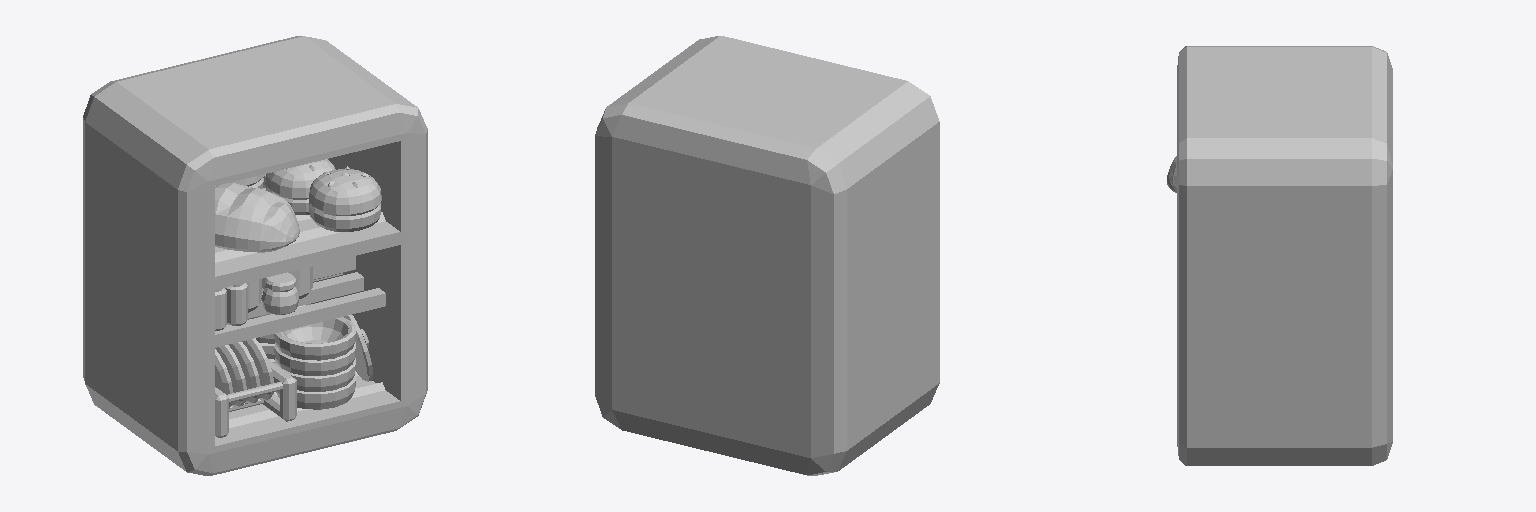
Rendered from pantry.obj.
3 renders of one model, left to right at view 1: azimuth 30°, elevation 25°; view 2: azimuth 150°, elevation 25°; view 3: azimuth 270°, elevation 25°, orthographic.
Visible parts, largest first — view 1: fridge_A_Cube.001, dishrack_plates_Cylinder.002, Sphere.002, food_ingredient_bun_Cube.001, bowl_Sphere.004, food_ingredient_bun_Cube.004, jar_C_small_Cylinder.267, bowl_Sphere.003, bowl_Sphere.005, bowl_Sphere.002, ketchup_Cylinder.157, lid_A_Cylinder.001 (+1 smaller); view 2: fridge_A_Cube.001; view 3: fridge_A_Cube.001.
Boxes of the visible parts, x1,y1,x2,y2 form: fridge_A_Cube.001: [83, 36, 427, 475]; dishrack_plates_Cylinder.002: [215, 338, 296, 437]; Sphere.002: [215, 183, 299, 252]; food_ingredient_bun_Cube.001: [309, 166, 381, 231]; bowl_Sphere.004: [274, 317, 355, 360]; food_ingredient_bun_Cube.004: [265, 159, 335, 214]; jar_C_small_Cylinder.267: [261, 272, 298, 314]; bowl_Sphere.003: [274, 342, 355, 375]; bowl_Sphere.005: [274, 374, 355, 409]; bowl_Sphere.002: [274, 358, 355, 391]; ketchup_Cylinder.157: [225, 283, 247, 325]; lid_A_Cylinder.001: [344, 315, 373, 381]; fridge_A_Cube.001: [595, 36, 939, 475]; fridge_A_Cube.001: [1177, 46, 1392, 465].
Size of the model in its own units: 2 by 2.5 by 1.57.